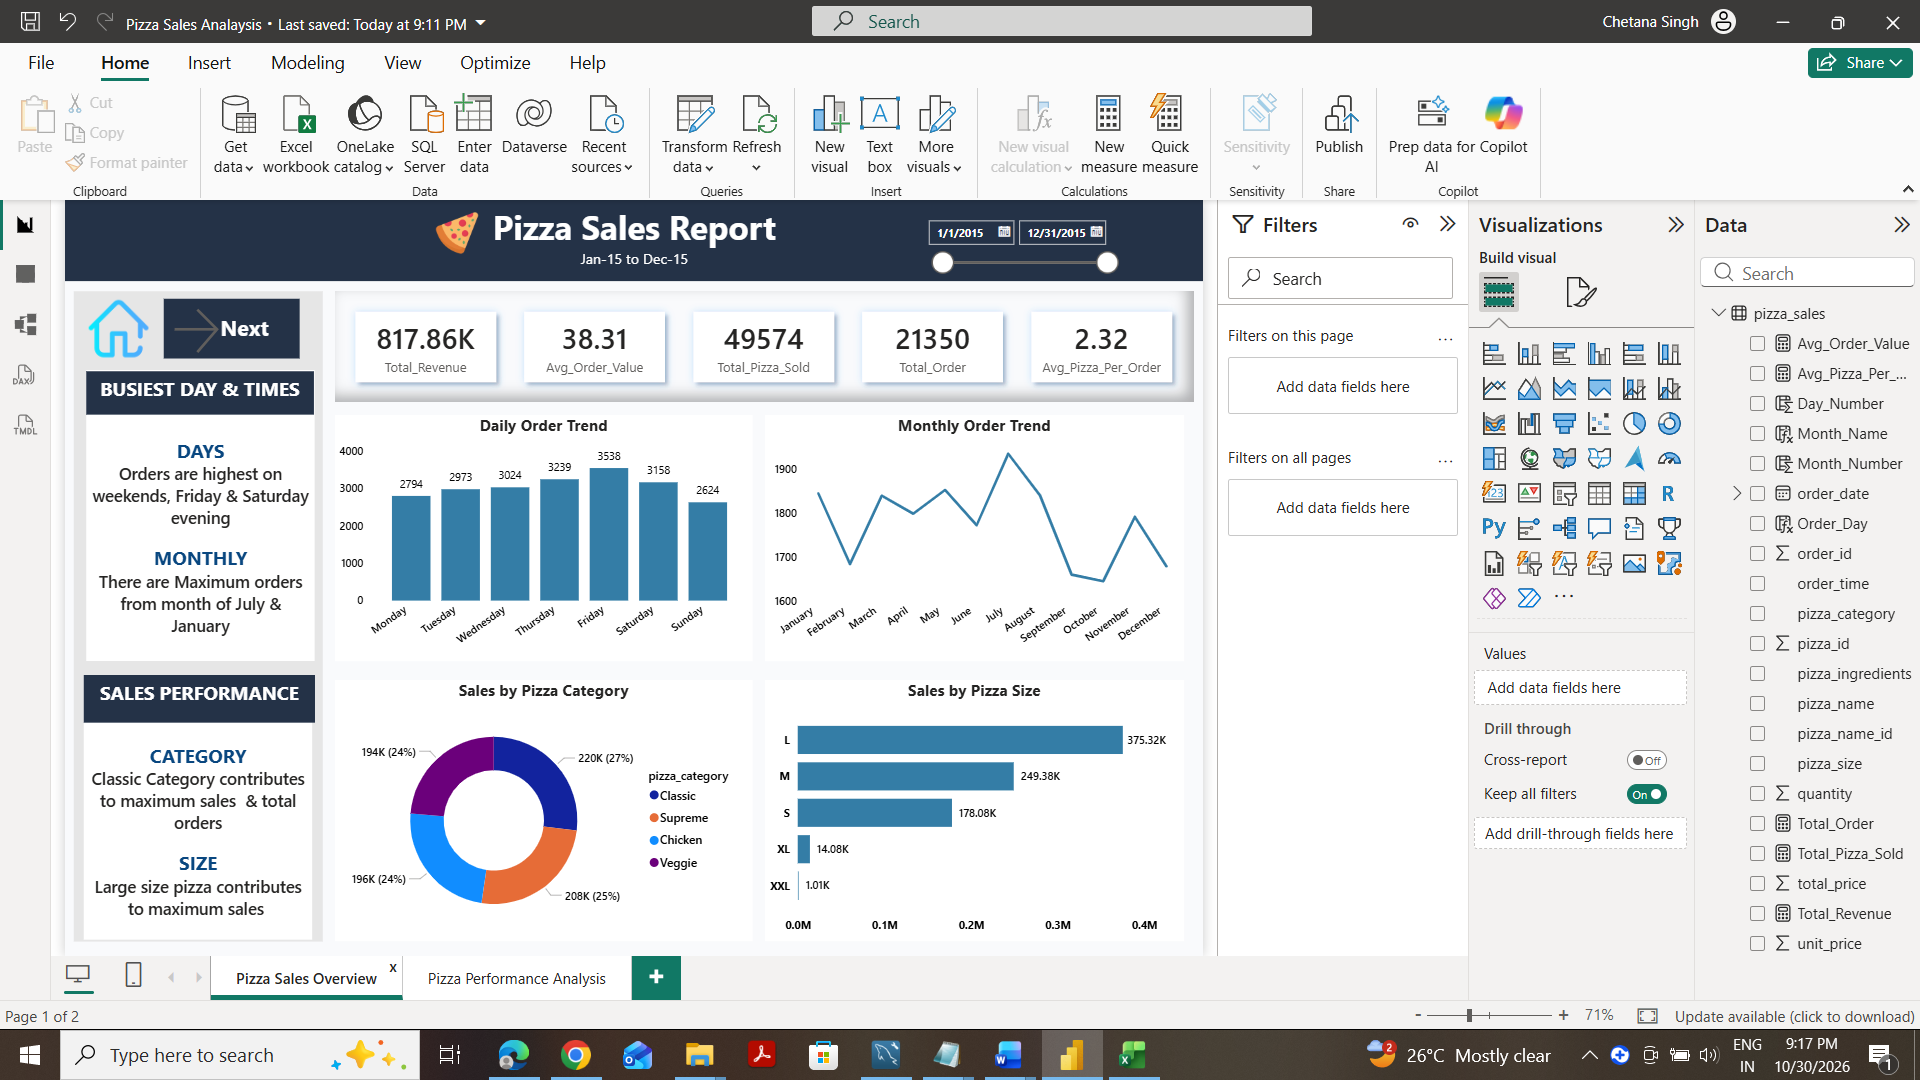

Layout of this report page (visuals, bound fields, positions):
{"tool":"powerbi","page":{"name":"Pizza Sales Overview","canvas":[1280,850],"ordinal":0},"visuals":[{"type":"cardVisual","fields":{"Data":["pizza_sales.Total_Revenue","pizza_sales.Avg_Order_Value","pizza_sales.Total_Pizza_Sold","pizza_sales.Total_Order","pizza_sales.Avg_Pizza_Per_Order"]},"box":[303.6,102.6,965.5,125.1],"z":0},{"type":"textbox","box":[0,0,1280.3,91.4],"z":1000},{"type":"clusteredColumnChart","title":"Daily Order Trend","fields":{"Category":["pizza_sales.Order_Day"],"Y":["pizza_sales.Total_Order"]},"box":[303.6,241.7,469.4,276.9],"z":2000},{"type":"lineChart","title":"Monthly Order Trend","fields":{"Category":["pizza_sales.Month_Name"],"Y":["pizza_sales.Total_Order"]},"box":[787,241.7,470.8,276.9],"z":3000},{"type":"donutChart","title":"Sales by Pizza Category","fields":{"Category":["pizza_sales.pizza_category"],"Y":["pizza_sales.Total_Revenue"]},"box":[303.6,539.7,469.4,293.7],"z":4000},{"type":"clusteredBarChart","title":"Sales by Pizza Size","fields":{"Category":["pizza_sales.pizza_size"],"Y":["pizza_sales.Total_Revenue"]},"box":[787,539.7,470.8,293.7],"z":5000},{"type":"textbox","box":[9.8,102.6,279.7,730.8],"z":6000},{"type":"textbox","box":[23.9,191.1,257.2,327.5],"z":7000},{"type":"textbox","box":[21.1,534.1,257.2,298],"z":8000},{"type":"textbox","box":[23.9,192.5,255.8,49.2],"z":9000},{"type":"textbox","box":[21.1,534.1,260,53.4],"z":10000},{"type":"image","box":[410.4,12.6,60.4,49.2],"z":11000},{"type":"image","box":[9.8,111,101.2,67.5],"z":12000},{"type":"actionButton","box":[111,111,153.2,67.5],"z":13000},{"type":"slicer","fields":{"Values":["pizza_sales.order_date"]},"box":[958.5,12.6,234.7,74.5],"z":13001}]}

Visuals, with their boxes on the page's 1280x850 design canvas (x1, y1, x2, y2). These are canvas units, not pixel positions in the 1920x1080 screenshot, which may show the page scaled, cropped or inside an application window:
cardVisual - pizza_sales.Total_Revenue x pizza_sales.Avg_Order_Value: 304/103/1269/228
textbox: 0/0/1280/91
"Daily Order Trend" clusteredColumnChart: 304/242/773/519
"Monthly Order Trend" lineChart: 787/242/1258/519
"Sales by Pizza Category" donutChart: 304/540/773/833
"Sales by Pizza Size" clusteredBarChart: 787/540/1258/833
textbox: 10/103/290/833
textbox: 24/191/281/519
textbox: 21/534/278/832
textbox: 24/192/280/242
textbox: 21/534/281/588
image: 410/13/471/62
image: 10/111/111/178
actionButton: 111/111/264/178
slicer - pizza_sales.order_date: 958/13/1193/87
